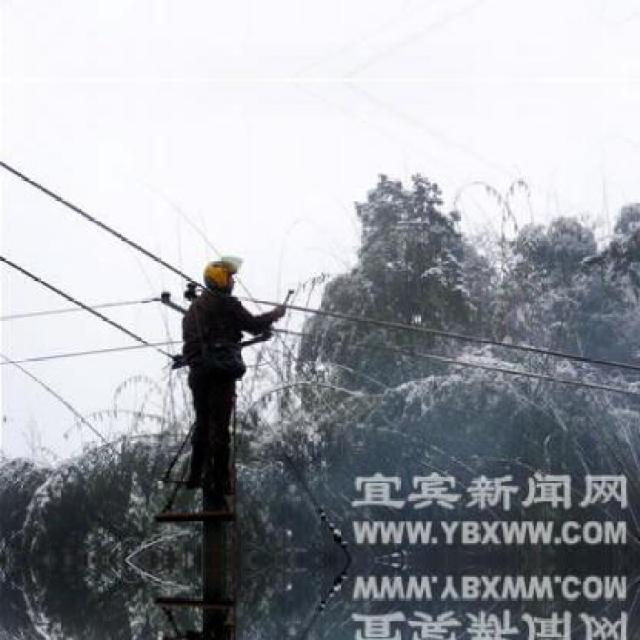helmet: (195, 252, 242, 296)
